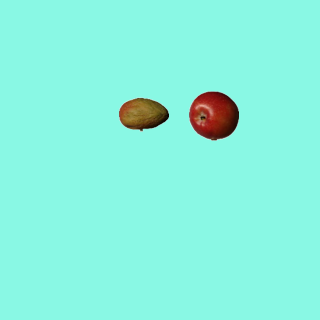Apple Braeburn: (188, 90, 238, 140)
Papaya: (118, 89, 168, 139)
